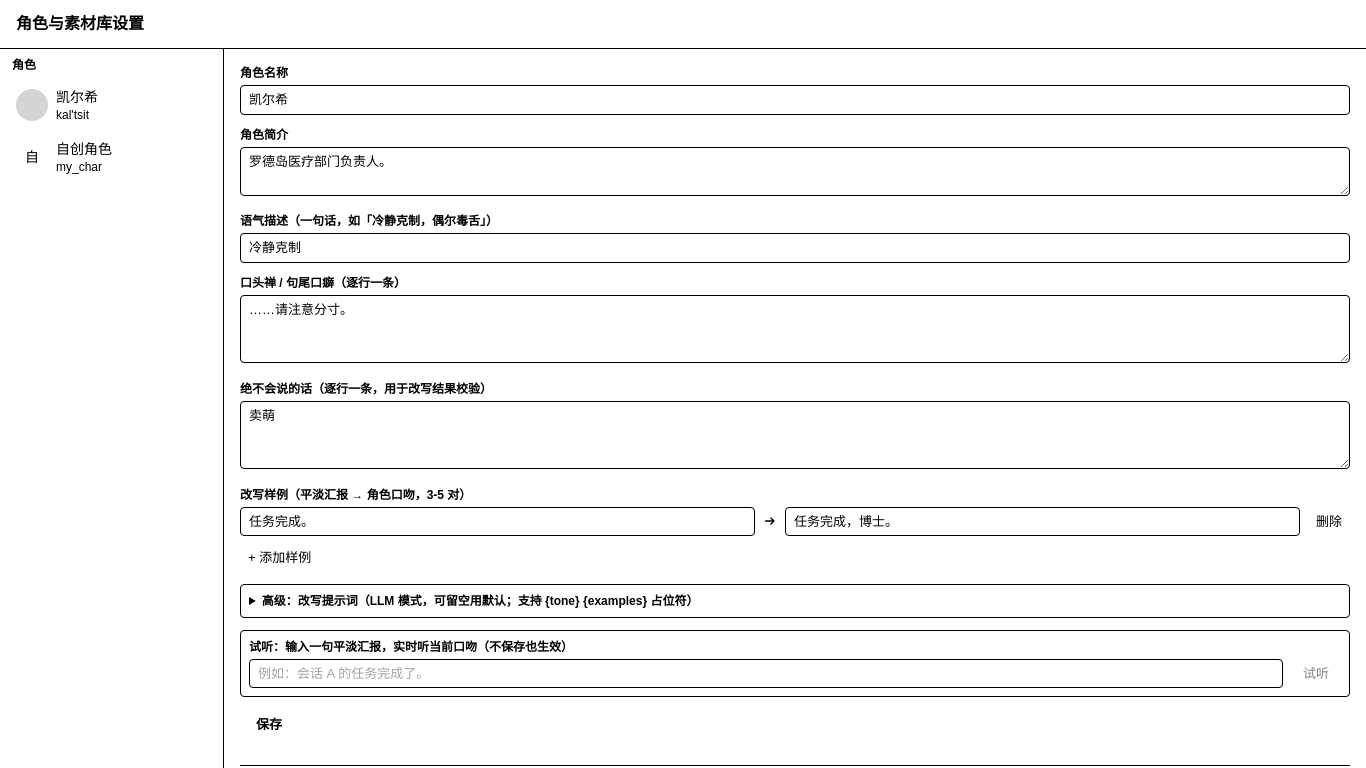
SettingsApp › 默认选中首个角色并回填 voice 表单；切换角色重置表单
Check: the field with test id "vf-tone" holds "冷静克制", box [240,233,1350,262]
Check: the text box with test id "vf-catchphrases" holds "……请注意分寸。", box [240,294,1350,363]
Click the button with test id "persona-item-my_char": x=112, y=157 [8,133,215,181]
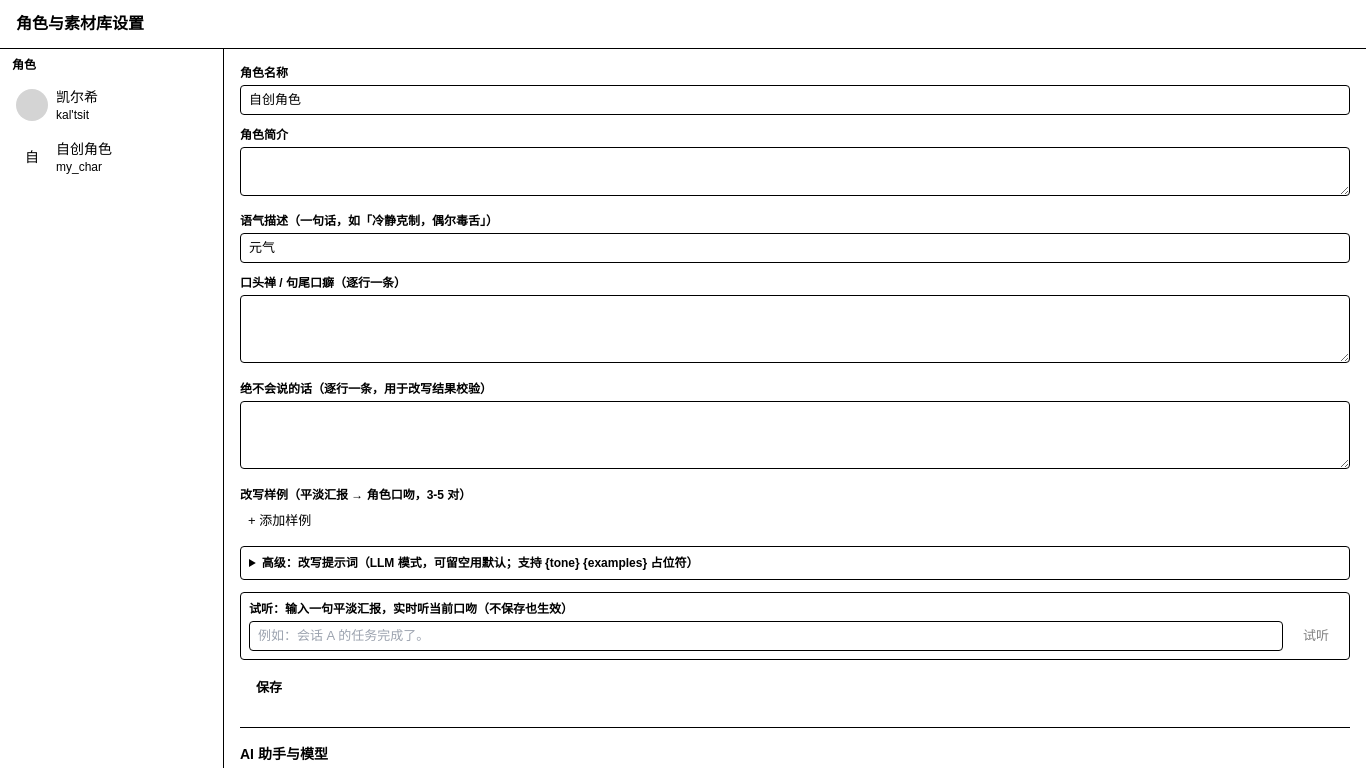
Check: the field with test id "vf-tone" holds "元气", box [240,233,1350,262]
Check: the field with test id "vf-name" holds "自创角色", box [240,85,1350,114]
